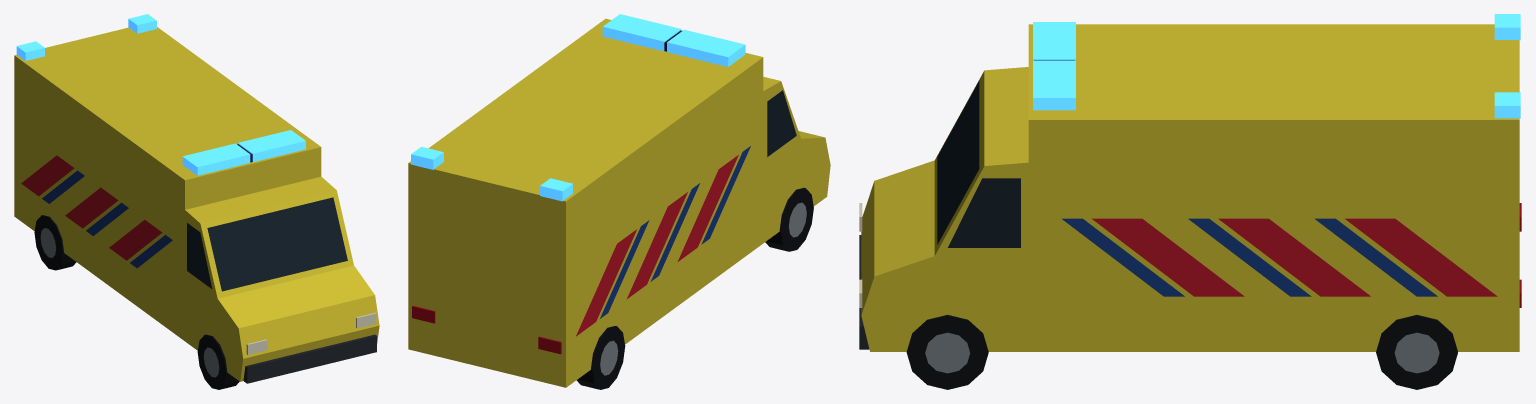
File: ambulance.glb
The picture shows the model from 3 angles, left to right: view 1: azimuth 30°, elevation 25°; view 2: azimuth 150°, elevation 25°; view 3: azimuth 270°, elevation 25°; orthographic projection. The views are drawn at different scales.
Visible parts, largest first — view 1: ambulance, lightRight, lightLeft; view 2: ambulance, lightRight, lightLeft; view 3: ambulance, lightLeft, lightRight.
Boxes of the visible parts, <box> form: ambulance: <box>14,27,379,389</box>; lightRight: <box>16,41,250,175</box>; lightLeft: <box>128,14,305,162</box>; ambulance: <box>408,18,830,389</box>; lightRight: <box>540,29,745,201</box>; lightLeft: <box>411,14,681,169</box>; ambulance: <box>859,24,1521,389</box>; lightLeft: <box>1033,61,1520,118</box>; lightRight: <box>1033,14,1520,60</box>.
Bounding box in the file's own units: 2.15 × 2.88 × 6.14.
